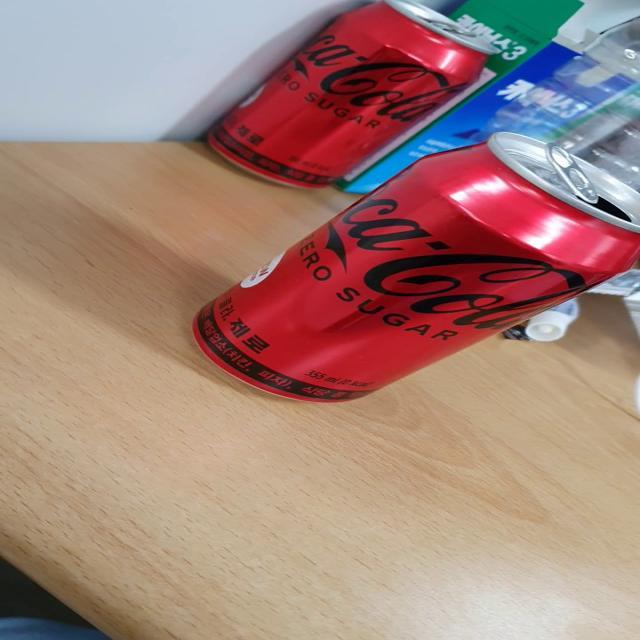coca-cola: (191, 120, 640, 426), (191, 1, 505, 196)
